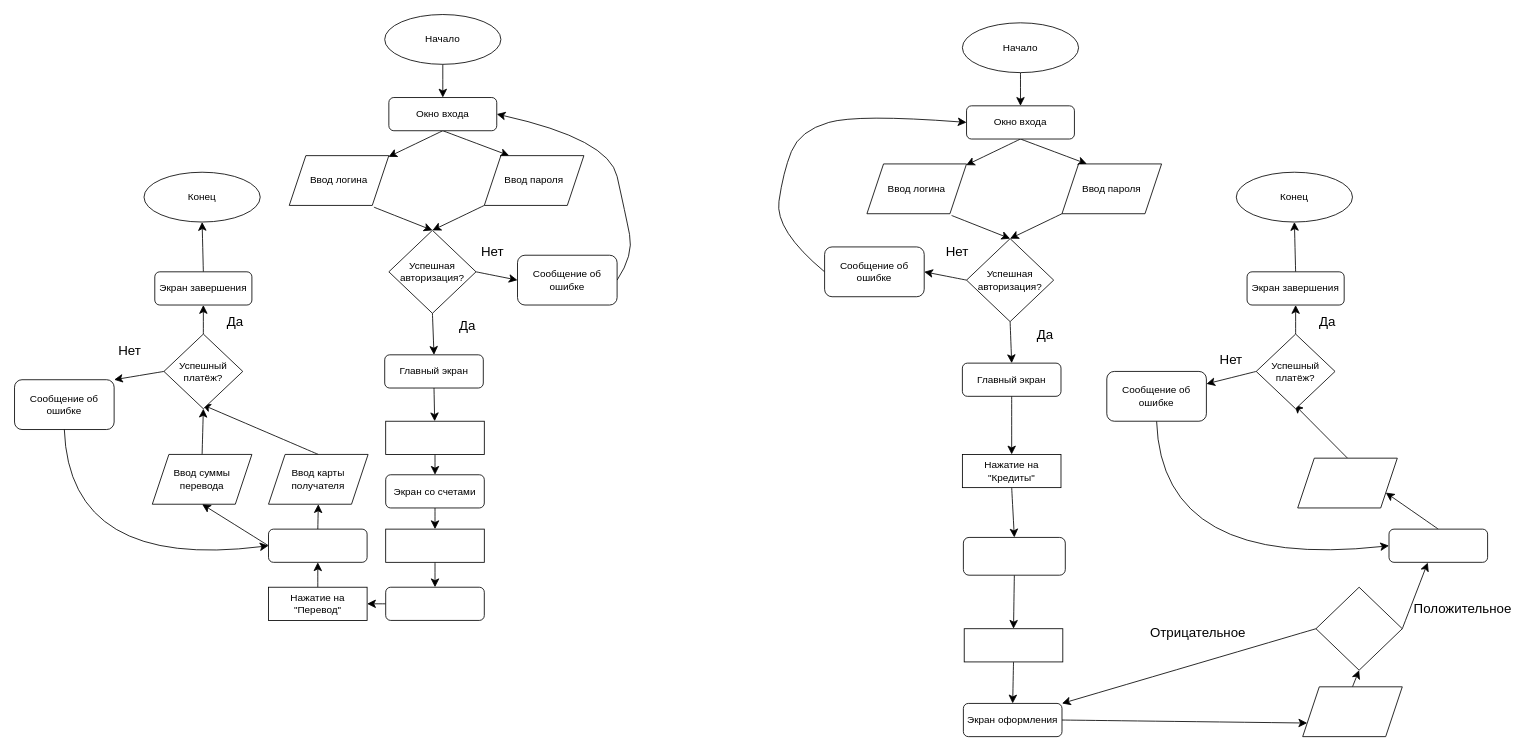
Image size: 1526x751. Some labels were removed from this diagram. Each missing label, with the box of its shape:
Ввод данных пользователя: (1302, 686, 1402, 737)
Ввод карты: (1297, 457, 1397, 508)
Нажатие на "оформить кредит": (963, 628, 1063, 662)
Нажатие на "Переводы": (385, 420, 484, 454)
Нажатие на счёт: (385, 528, 484, 562)
Решение по кредиту?: (1315, 586, 1402, 670)
Экран зачисления: (1388, 528, 1488, 562)
Экран перевода: (268, 528, 367, 562)
Экран с информацией о кредитах: (963, 537, 1065, 575)
Экран счёта: (385, 586, 484, 620)
